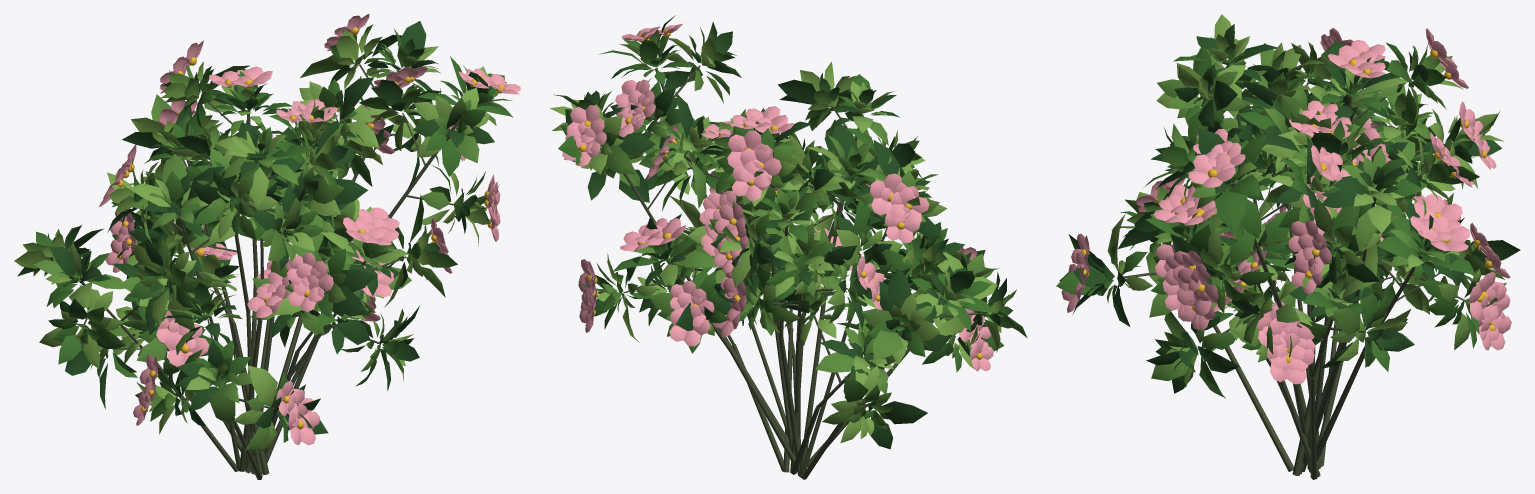
Rendered from shrub-02-pink.glb.
The picture shows the model from 3 angles, left to right: view 1: azimuth 30°, elevation 25°; view 2: azimuth 150°, elevation 25°; view 3: azimuth 270°, elevation 25°; orthographic projection. The views are drawn at different scales.
Visible parts, largest first — view 1: foliage-1, foliage-4, foliage-2, foliage-3, flowers, branches, flower-centers; view 2: foliage-1, foliage-4, foliage-2, flowers, foliage-3, branches, flower-centers; view 3: flowers, foliage-2, foliage-1, foliage-3, foliage-4, branches, flower-centers.
Boxes of the visible parts, box(x1,y1,x2,y2) form: foliage-1: box(48, 21, 497, 434); foliage-4: box(14, 29, 490, 454); foliage-2: box(17, 24, 513, 442); foliage-3: box(23, 43, 512, 450); flowers: box(99, 14, 520, 445); branches: box(79, 64, 459, 479); flower-centers: box(116, 27, 504, 429); foliage-1: box(553, 15, 1006, 449); foliage-4: box(550, 37, 1003, 443); foliage-2: box(558, 27, 1027, 429); flowers: box(562, 23, 993, 371); foliage-3: box(564, 21, 1016, 426); branches: box(601, 65, 982, 479); flower-centers: box(578, 29, 982, 359); flowers: box(1061, 28, 1511, 384); foliage-2: box(1056, 42, 1497, 398); foliage-1: box(1068, 24, 1520, 393); foliage-3: box(1097, 42, 1506, 381); foliage-4: box(1101, 14, 1504, 387); branches: box(1117, 65, 1463, 479); flower-centers: box(1081, 49, 1496, 363).
Size of the model in its own units: 1.42 by 1.2 by 1.14.
